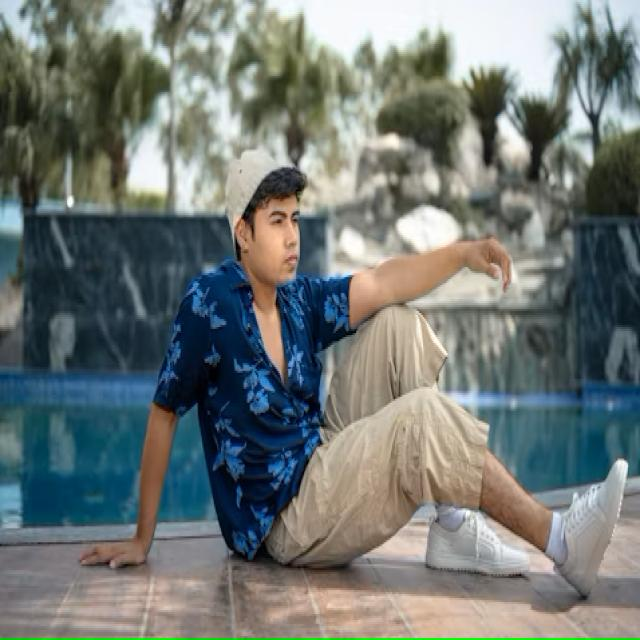Edited images: (96, 143, 628, 616)
